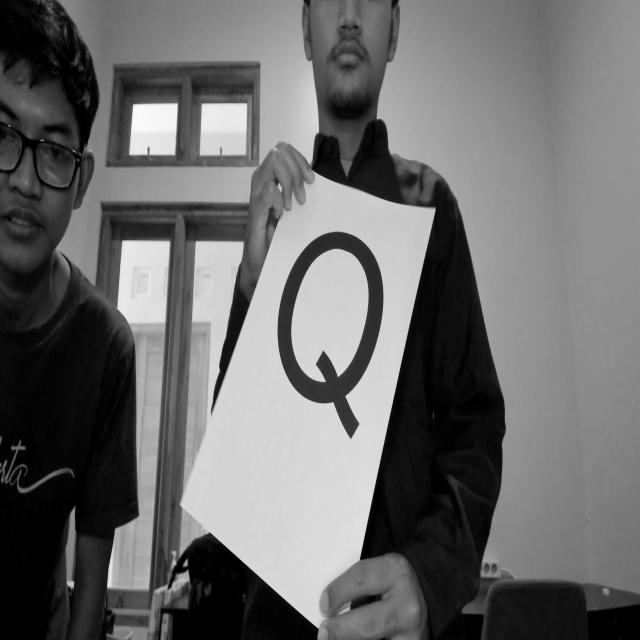q: (268, 191, 433, 476)
